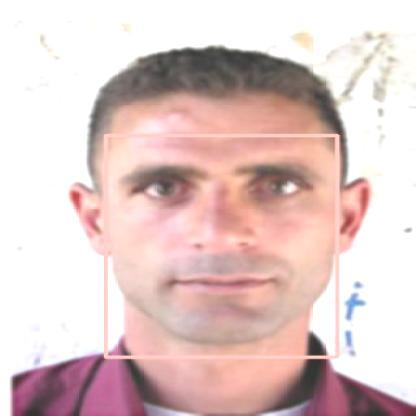without_mask: (105, 135, 337, 357)
